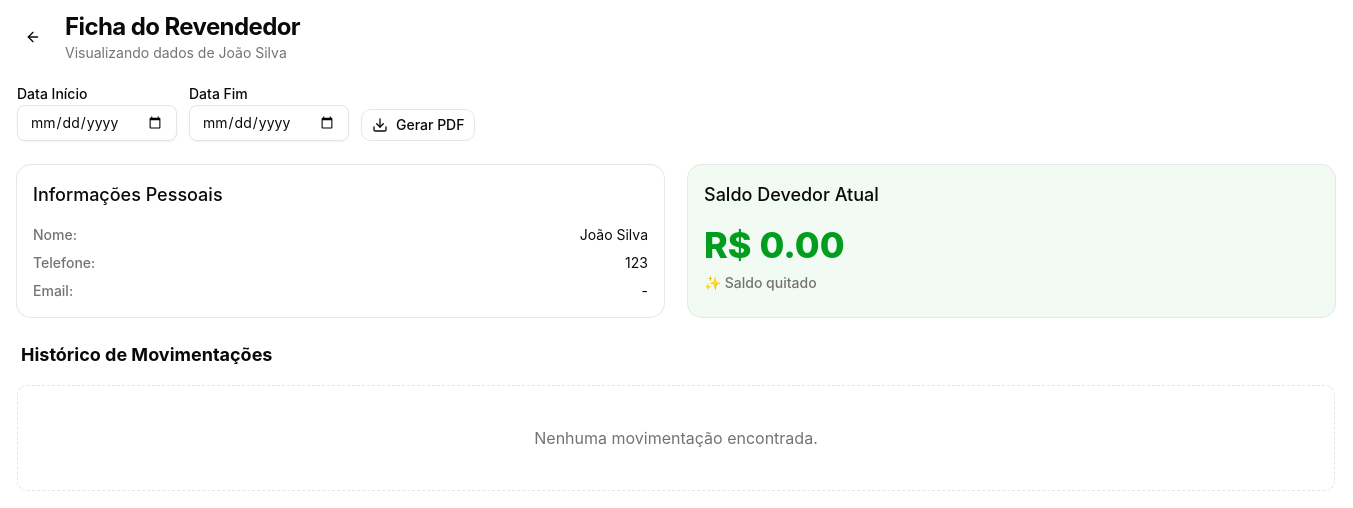
Test: ResellerDetailPage Calculation and Unit rendering › desabilita o botão quando apenas startDate é preenchida
Type "2025-01-01" into the date field labelled "Data Início" at coordinates (97, 123), box [17,105,177,141]
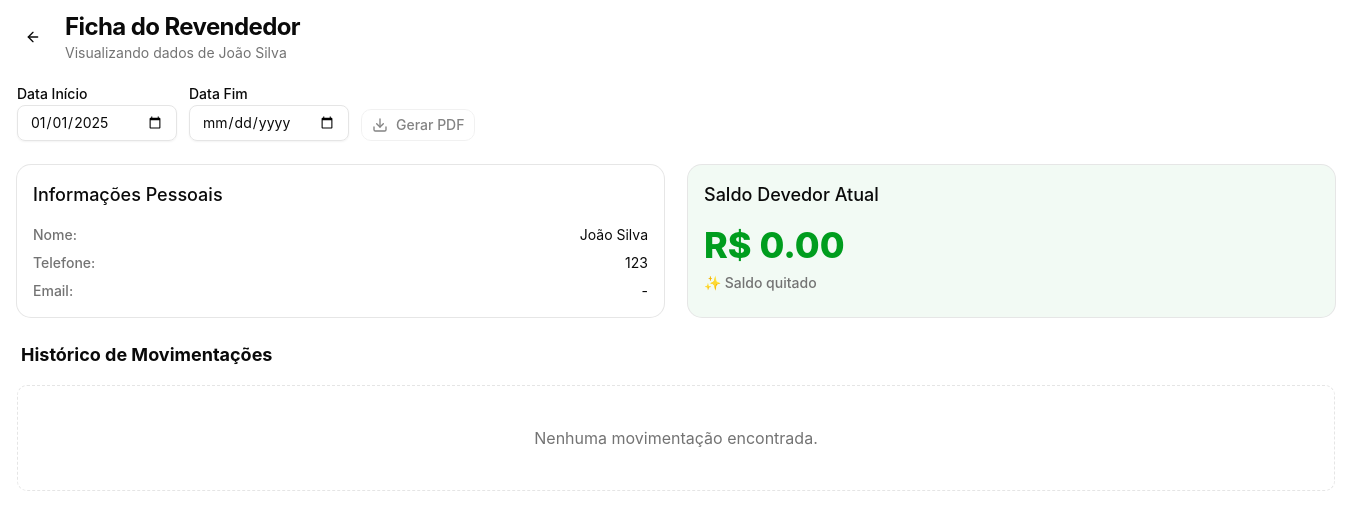
expect the button "Gerar PDF" is disabled: met, box [361,109,476,141]
